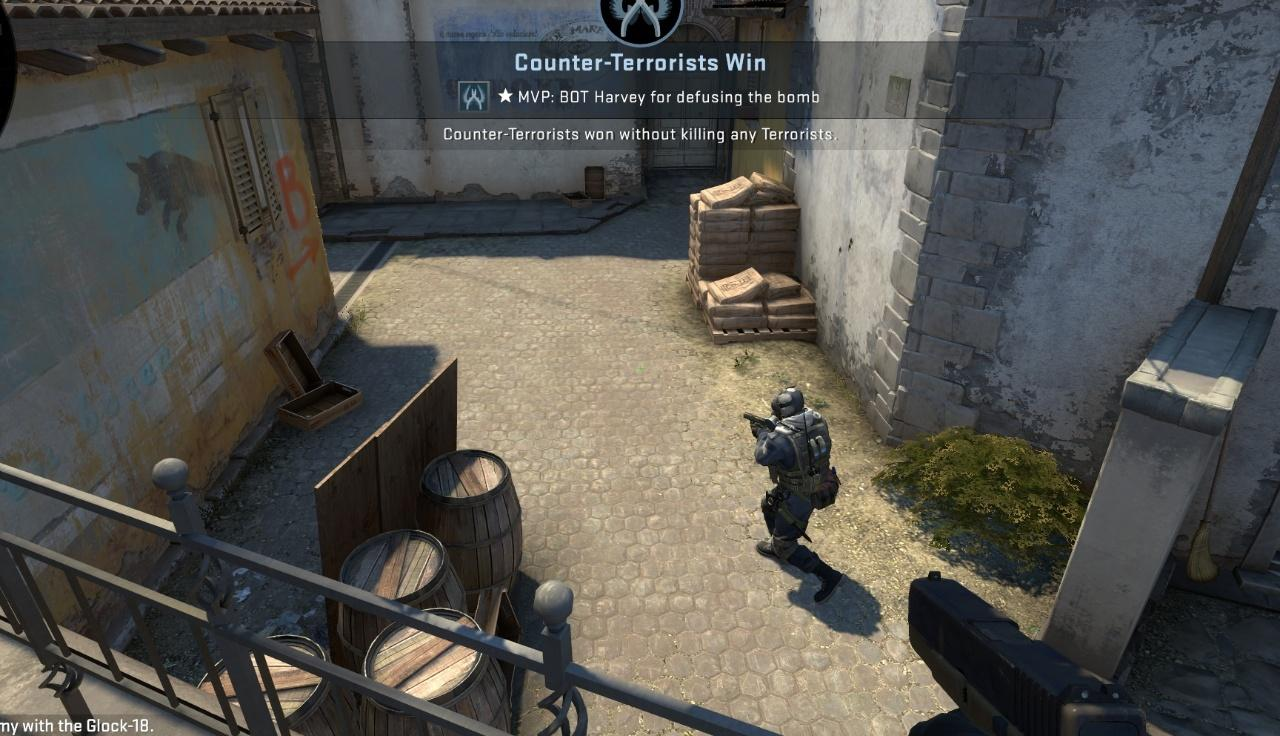ct: (743, 387, 842, 605)
cthead: (772, 389, 802, 423)
pistol: (903, 569, 1162, 736)
